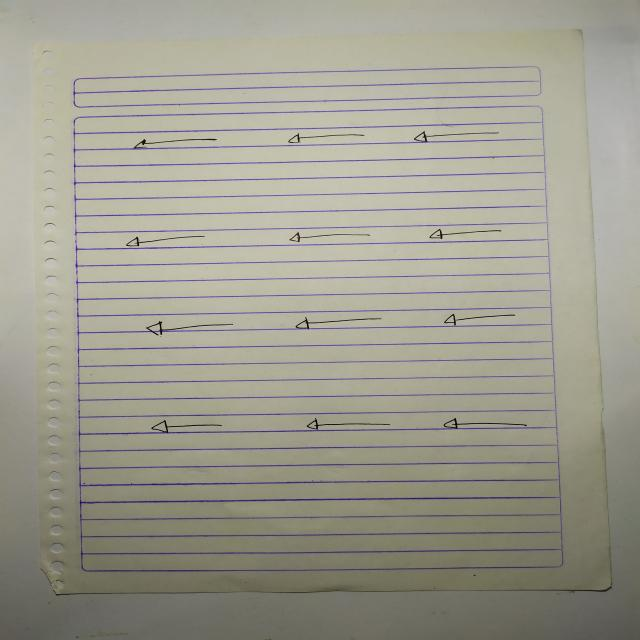arrow_line_left: (134, 314, 258, 342), (123, 134, 235, 156), (433, 414, 542, 435), (430, 309, 528, 332), (406, 128, 513, 148), (284, 314, 396, 333), (276, 229, 386, 248), (115, 232, 230, 250), (300, 416, 401, 436), (277, 130, 383, 149), (418, 226, 516, 245), (141, 418, 232, 437)
